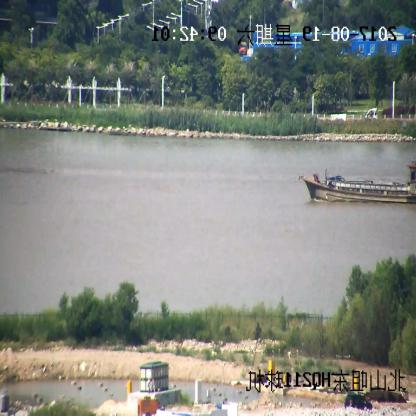Fishing Boat: (301, 160, 416, 204)
